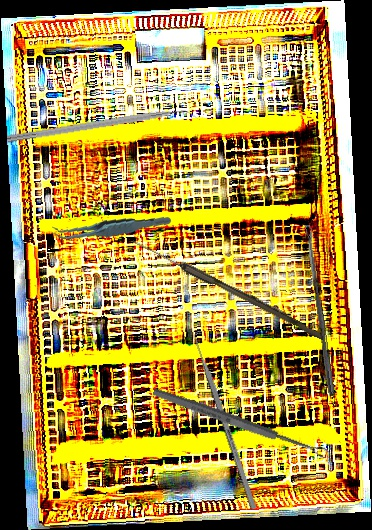Chopper: (6, 105, 199, 153)
Pusher: (187, 323, 258, 510)
Surgical Spoon: (129, 237, 328, 341), (151, 385, 329, 461), (304, 224, 337, 397)
Tissue Forceps: (50, 204, 172, 251)
